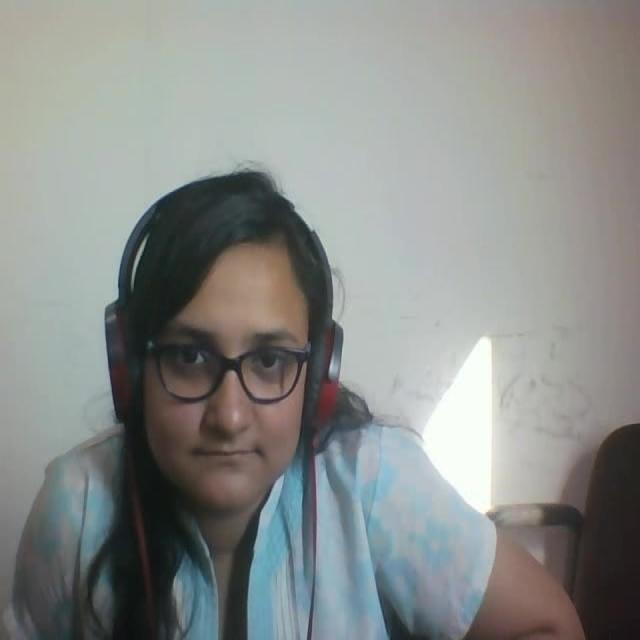Engaged: (88, 174, 354, 539)
